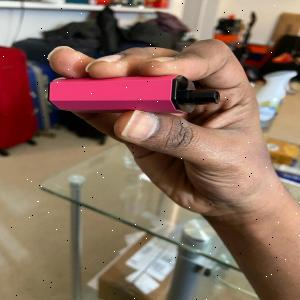Blume-E-Ciggirate: (43, 77, 224, 117)
